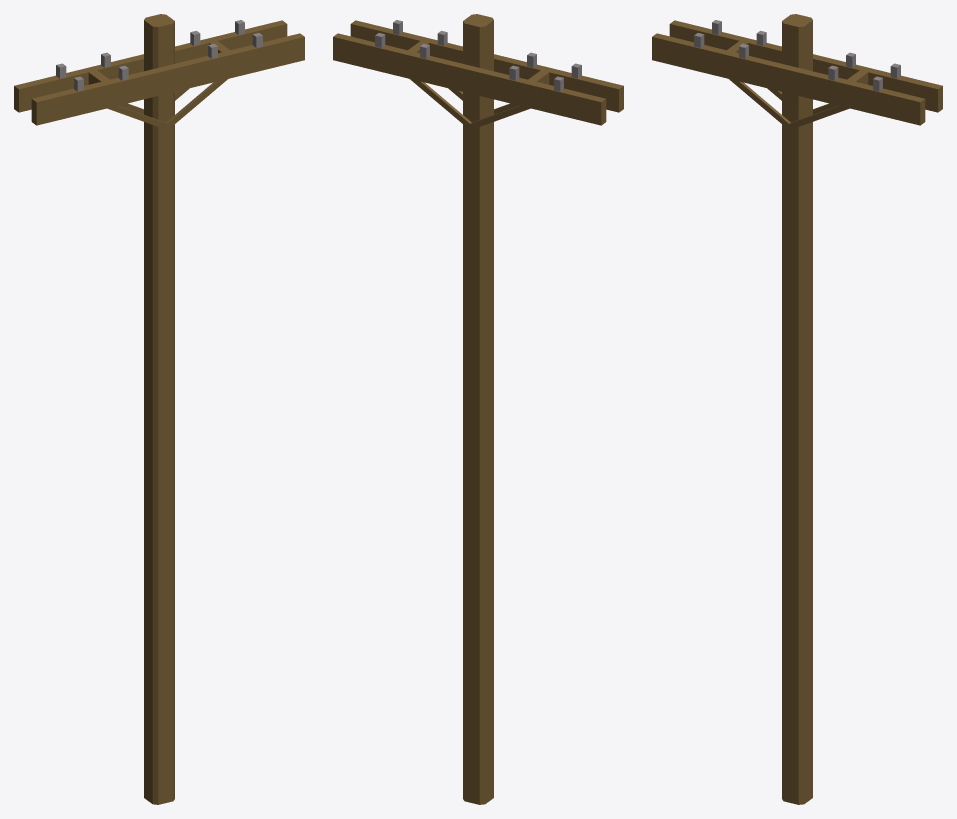
Rendered from UtilityPole.fbx.
The picture shows the model from 3 angles, left to right: view 1: azimuth 30°, elevation 25°; view 2: azimuth 150°, elevation 25°; view 3: azimuth 330°, elevation 25°; orthographic projection.
Parts seen in each view (by area): view 1: UtilityPole; view 2: UtilityPole; view 3: UtilityPole.
Boxes of the visible parts, x1,y1,x2,y2 form: UtilityPole: (14,14,304,804); UtilityPole: (333,14,623,804); UtilityPole: (652,14,942,804).
Size of the model in its own units: 180 by 500 by 26.29.
